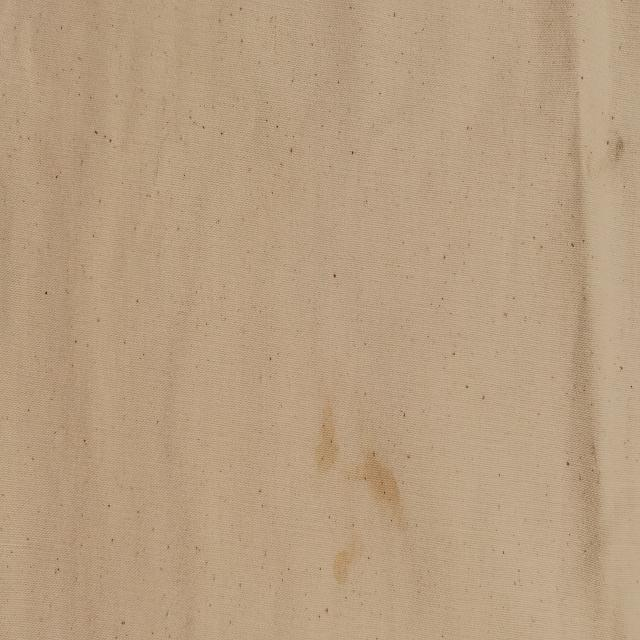taaaches: (362, 442, 405, 520), (314, 396, 348, 481), (324, 538, 358, 592), (606, 118, 630, 176)
